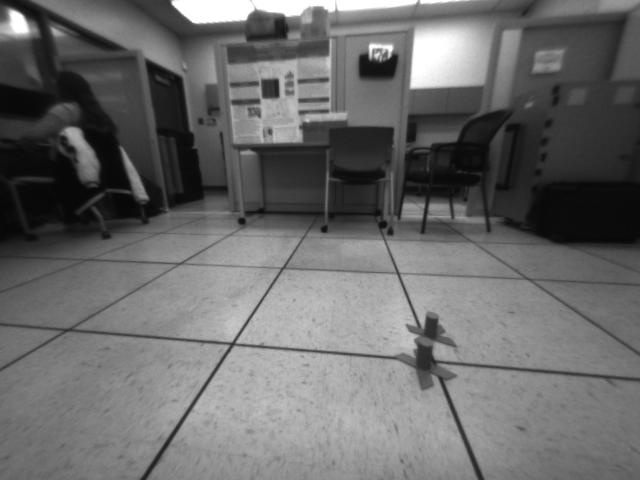X: (395, 336, 459, 391), (404, 310, 458, 351)
